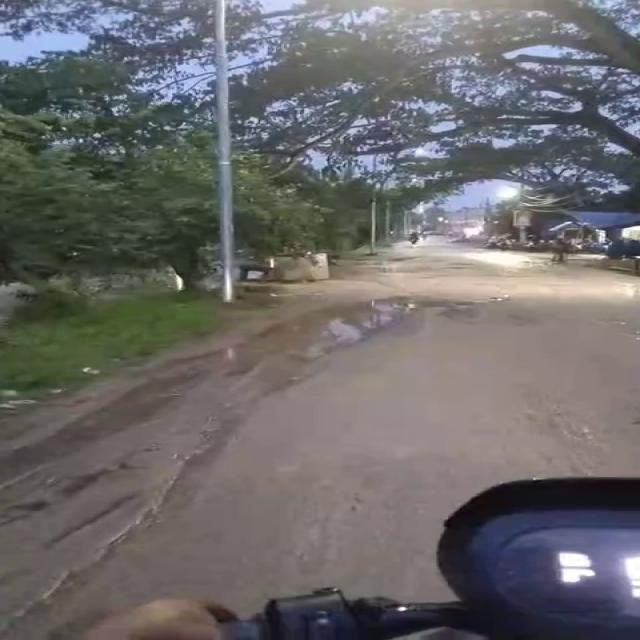pothole: (253, 294, 475, 355), (485, 290, 512, 308)
